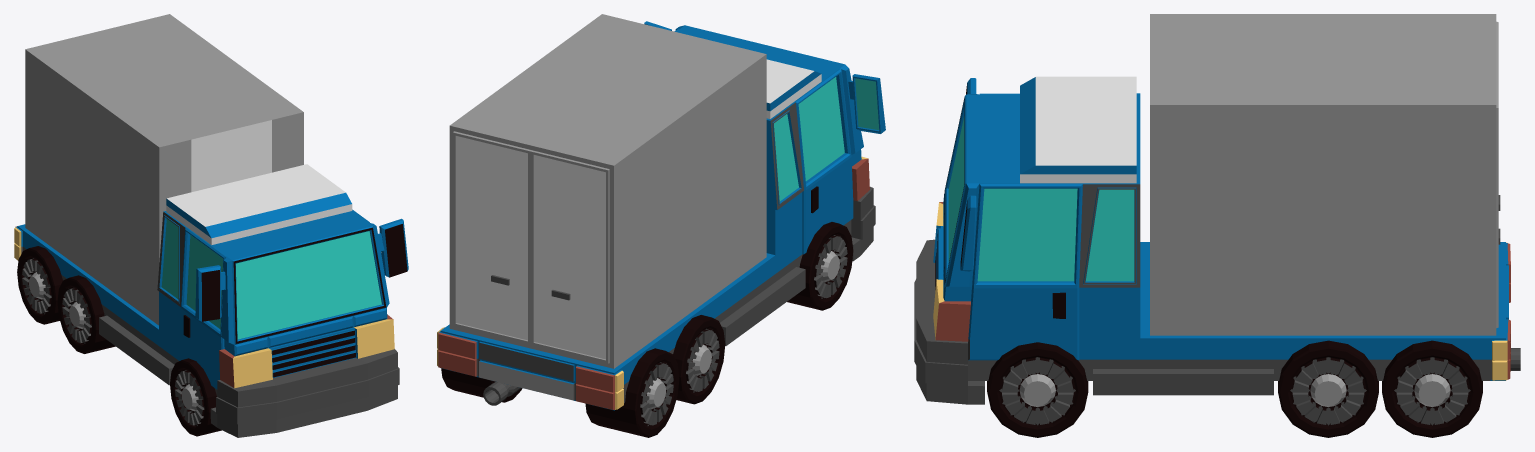
The model's file is uploads_files_4015616_simple+low+poly+truck+or+lorry+.obj.
3 renders of one model, left to right at view 1: azimuth 30°, elevation 25°; view 2: azimuth 150°, elevation 25°; view 3: azimuth 270°, elevation 25°, orthographic. The views are drawn at different scales.
Visible parts, largest first — view 1: Cube, Cylinder.005, Cylinder.004, Cylinder; view 2: Cube, Cylinder, Cylinder.004, Cylinder.005, Cylinder.003; view 3: Cube, Cylinder.002, Cylinder.003, Cylinder.001.
Boxes of the visible parts, box(x1,y1,x2,y2) form: Cube: box(14, 14, 408, 437); Cylinder.005: box(57, 275, 115, 353); Cylinder.004: box(170, 358, 221, 436); Cylinder: box(17, 246, 62, 324); Cube: box(437, 14, 885, 410); Cylinder: box(585, 348, 679, 437); Cylinder.004: box(787, 222, 853, 310); Cylinder.005: box(673, 315, 725, 404); Cylinder.003: box(441, 368, 522, 402); Cube: box(914, 14, 1520, 404); Cylinder.002: box(1278, 340, 1378, 437); Cylinder.003: box(1382, 340, 1482, 437); Cylinder.001: box(987, 342, 1088, 437).
Bounding box in the file's own units: 3.66 × 4.2 × 7.11.
